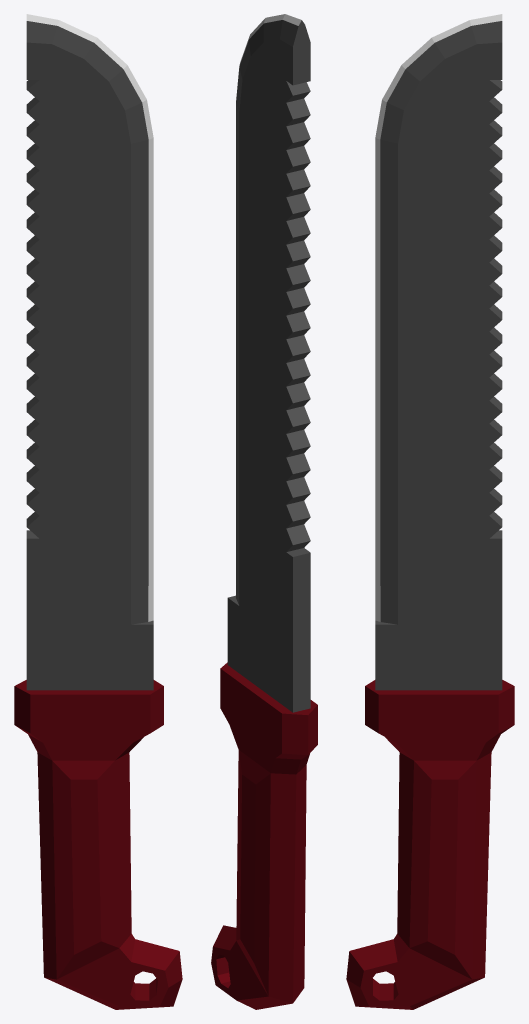
The model's file is Machete.glb.
3 renders of one model, left to right at view 1: azimuth 90°, elevation 25°; view 2: azimuth 210°, elevation 25°; view 3: azimuth 270°, elevation 25°, orthographic. The views are drawn at different scales.
Visible parts, largest first — view 1: Machete; view 2: Machete; view 3: Machete.
Boxes of the visible parts, x1=… form: Machete: x1=14, y1=14, x2=182, y2=1009; Machete: x1=211, y1=14, x2=317, y2=1009; Machete: x1=346, y1=14, x2=514, y2=1009.
Size of the model in its own units: 0.0248 by 0.5187 by 0.0794.
